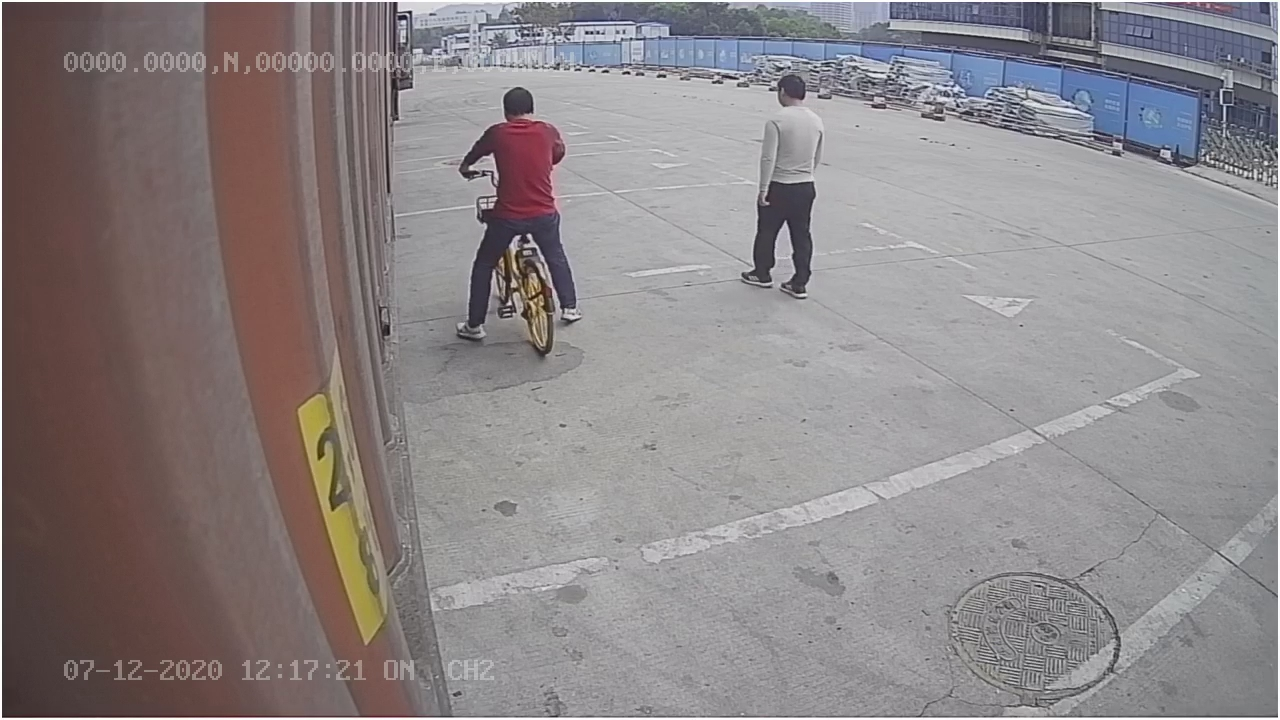person: (733, 70, 831, 305)
